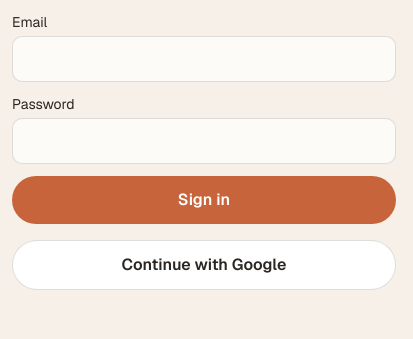
Scenario: SignInForm › shows an error on bad credentials
In the field labelled "Email": (204, 59) x1=12 y1=36 x2=396 y2=82, type "a@b.com"
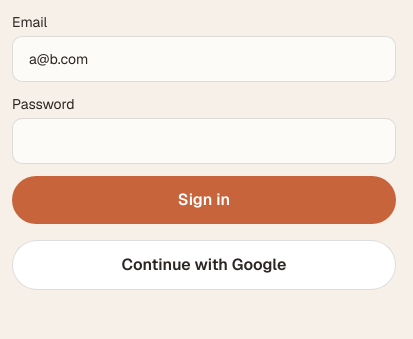
In the password field labelled "Password": (204, 141) x1=12 y1=118 x2=396 y2=164, type "longenough"
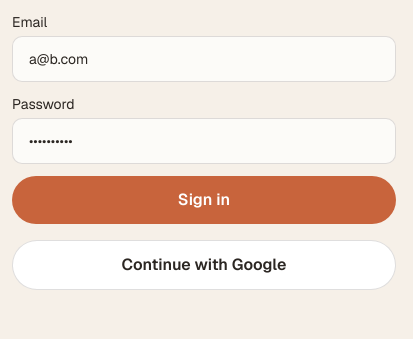
Click the button "Sign in": click(204, 200) x1=12 y1=176 x2=396 y2=224
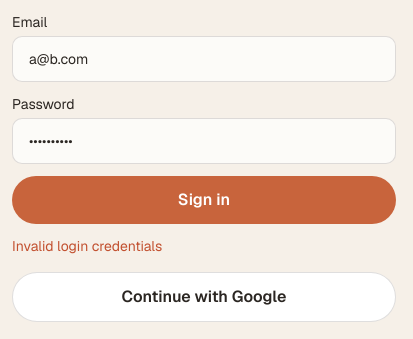
Expected: the text "Invalid login credentials" is shown, x1=12 y1=237 x2=162 y2=255
